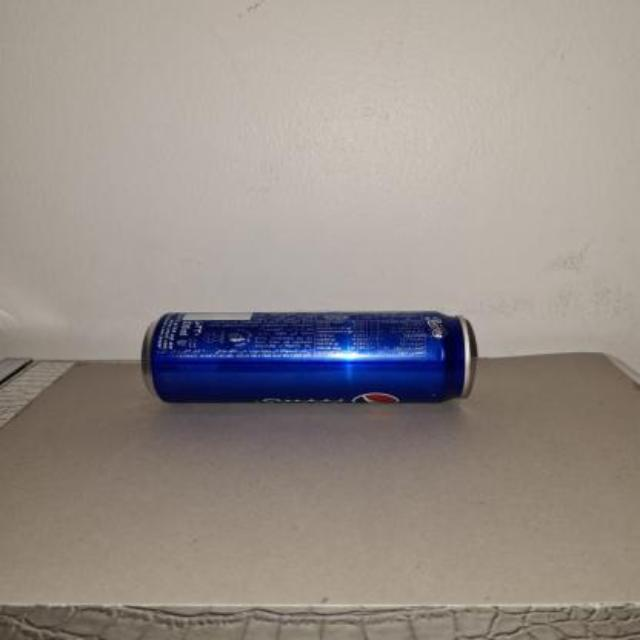metal: (140, 311, 474, 398)
